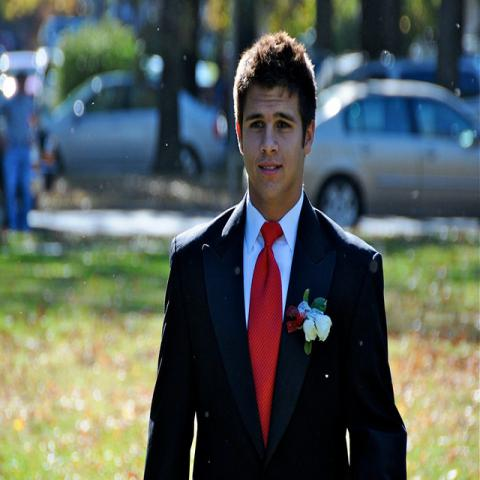car: (304, 79, 479, 232), (38, 68, 227, 181)
